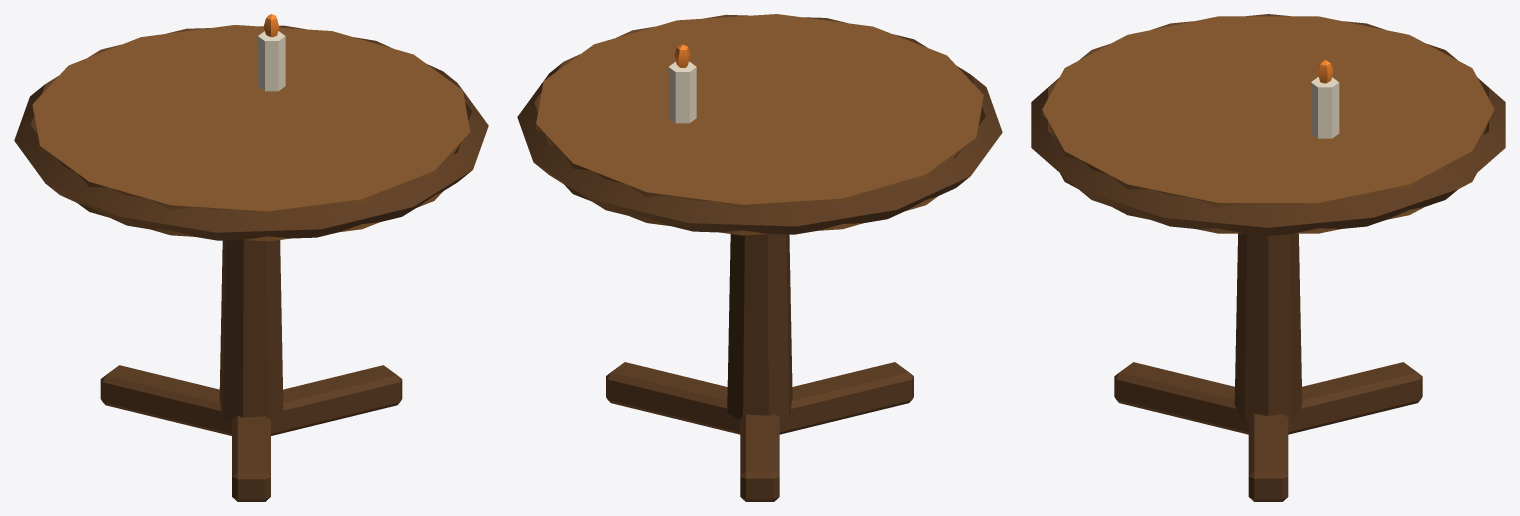
The model's file is PR_Furniture_MasaYuvarlak.fbx.
The picture shows the model from 3 angles, left to right: view 1: azimuth 30°, elevation 25°; view 2: azimuth 150°, elevation 25°; view 3: azimuth 270°, elevation 25°; orthographic projection. The views are drawn at different scales.
Visible parts, largest first — view 1: PR_Furniture_MasaYuvarlak; view 2: PR_Furniture_MasaYuvarlak; view 3: PR_Furniture_MasaYuvarlak.
Part boxes in pixels (bbox=[...]): PR_Furniture_MasaYuvarlak: bbox=[14, 14, 488, 501]; PR_Furniture_MasaYuvarlak: bbox=[517, 14, 1002, 501]; PR_Furniture_MasaYuvarlak: bbox=[1031, 14, 1505, 501].
Size of the model in its own units: 0.86 by 0.774 by 0.8384.
1 material, 1 textured.
